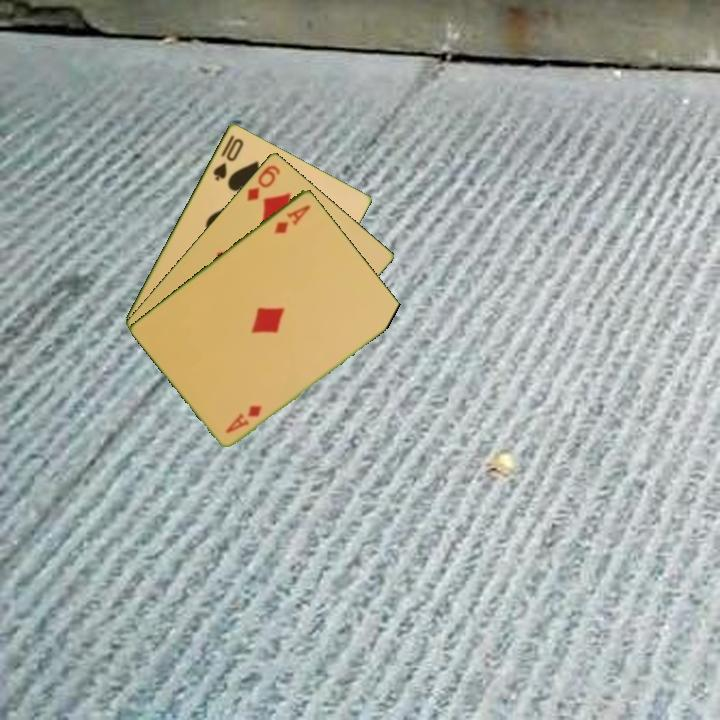10s: (209, 134, 246, 184)
6d: (243, 161, 283, 204)
Ad: (270, 201, 314, 236), (222, 401, 265, 436)
